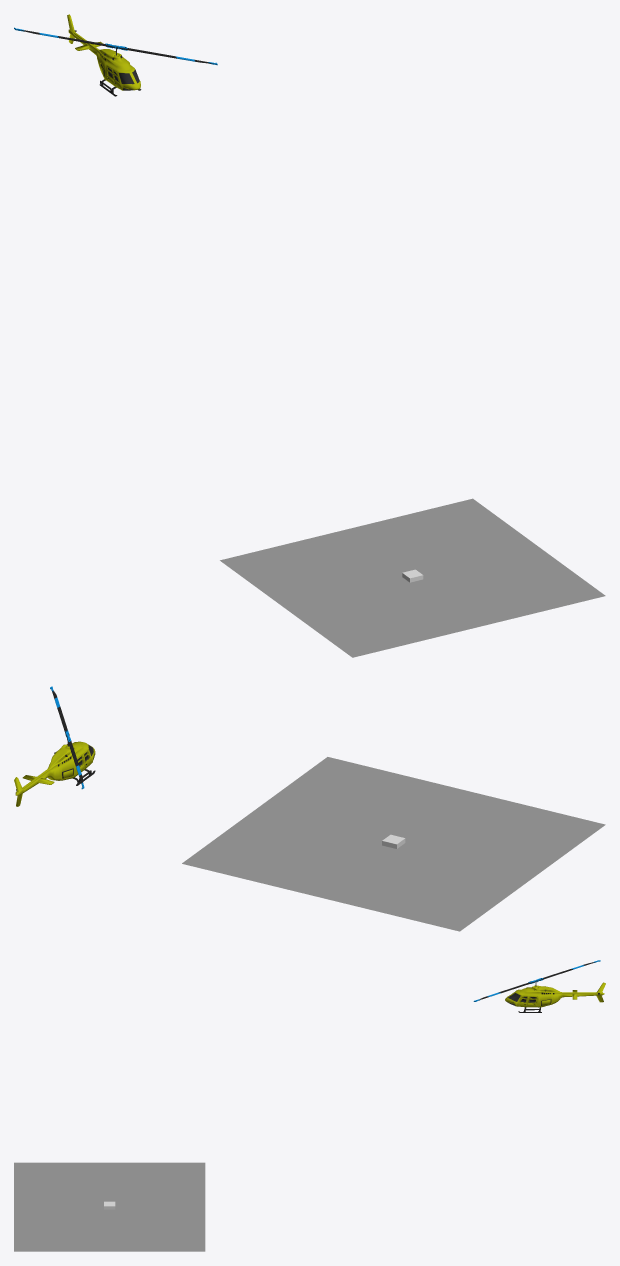
Rendered from helicopter-blender-aayush.glb.
3 renders of one model, top to bottom at view 1: azimuth 30°, elevation 25°; view 2: azimuth 150°, elevation 25°; view 3: azimuth 270°, elevation 25°, orthographic. The views are drawn at different scales.
Visible parts, largest first — view 1: tanah, body_helicopter; view 2: tanah, body_helicopter, baling baling_1; view 3: tanah, body_helicopter.
Part boxes in pixels (left/top/right/bottom): tanah: left=220, top=498, right=605, bottom=657; body_helicopter: left=67, top=14, right=141, bottom=96; tanah: left=182, top=757, right=605, bottom=931; body_helicopter: left=14, top=741, right=95, bottom=806; baling baling_1: left=50, top=686, right=84, bottom=789; tanah: left=14, top=1162, right=205, bottom=1251; body_helicopter: left=505, top=982, right=605, bottom=1012.
Size of the model in its own units: 37.68 by 46.25 by 106.
